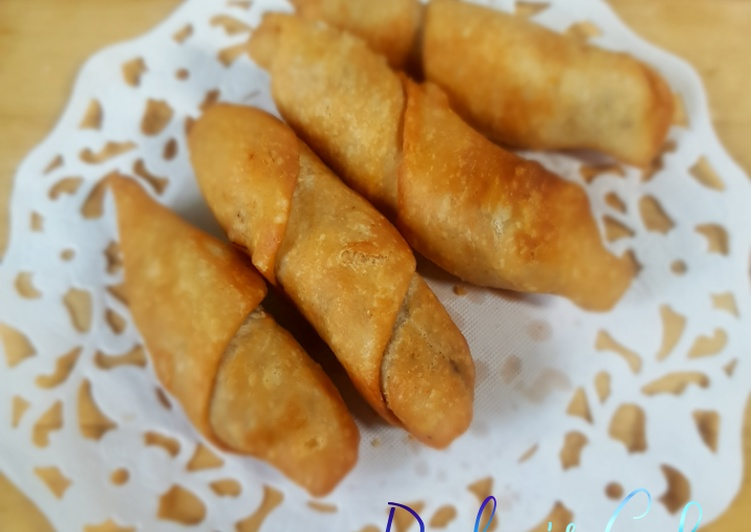pisang_molen: (249, 11, 640, 307), (185, 104, 476, 450), (102, 173, 360, 500)
